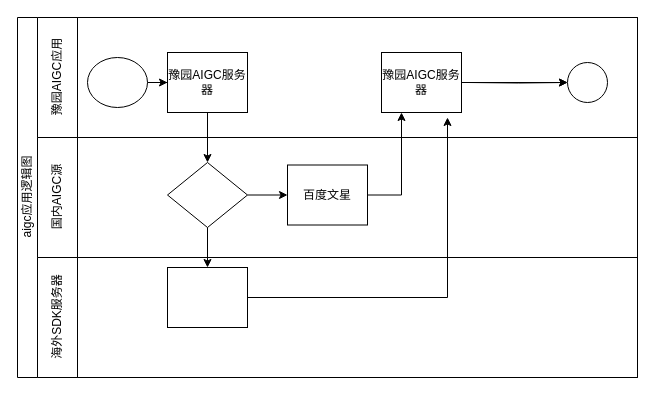
This 655x395 diagram has some shape labels left out. The shapes that lost their labels are listed below. From the top down, each one's centre as x and y in pixels, then its label:
At pixel 117 82: "珠宝设计".
At pixel 207 195: "选择源".
At pixel 207 297: "openAI".
